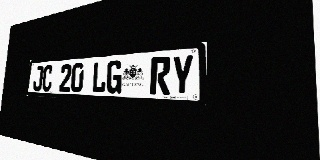0: (70, 63, 84, 92)
2: (59, 64, 72, 92)
C: (41, 65, 53, 91)
G: (106, 60, 123, 94)
J: (32, 66, 44, 91)
L: (91, 61, 107, 93)
R: (150, 56, 171, 95)
Y: (171, 54, 194, 96)
